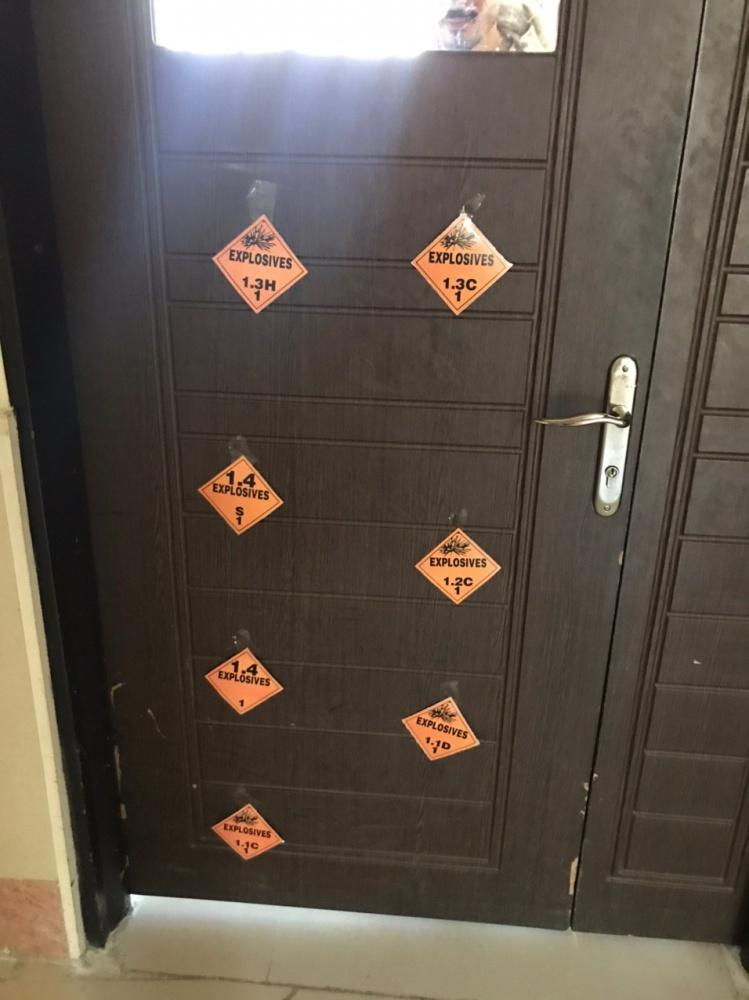explosive: (410, 213, 514, 320), (211, 219, 306, 315), (198, 456, 286, 535), (416, 531, 500, 605), (204, 649, 287, 721), (403, 695, 483, 764), (216, 803, 284, 862)
